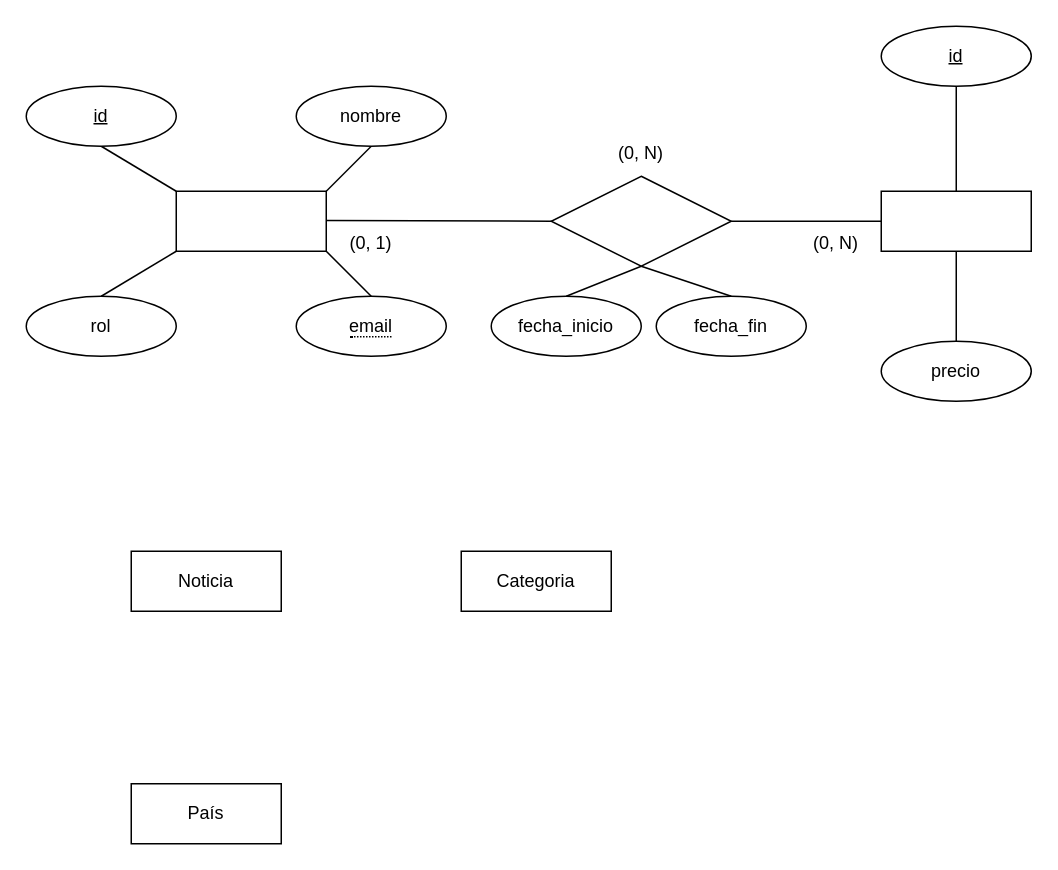
Some shapes in this 1058 by 870 pixel diagram are drawn without their labels. Each missing label, with the centre of its shape:
"Compra" goes at (x=640, y=220).
"Suscripcion" goes at (x=955, y=220).
"Usuario" goes at (x=250, y=220).
